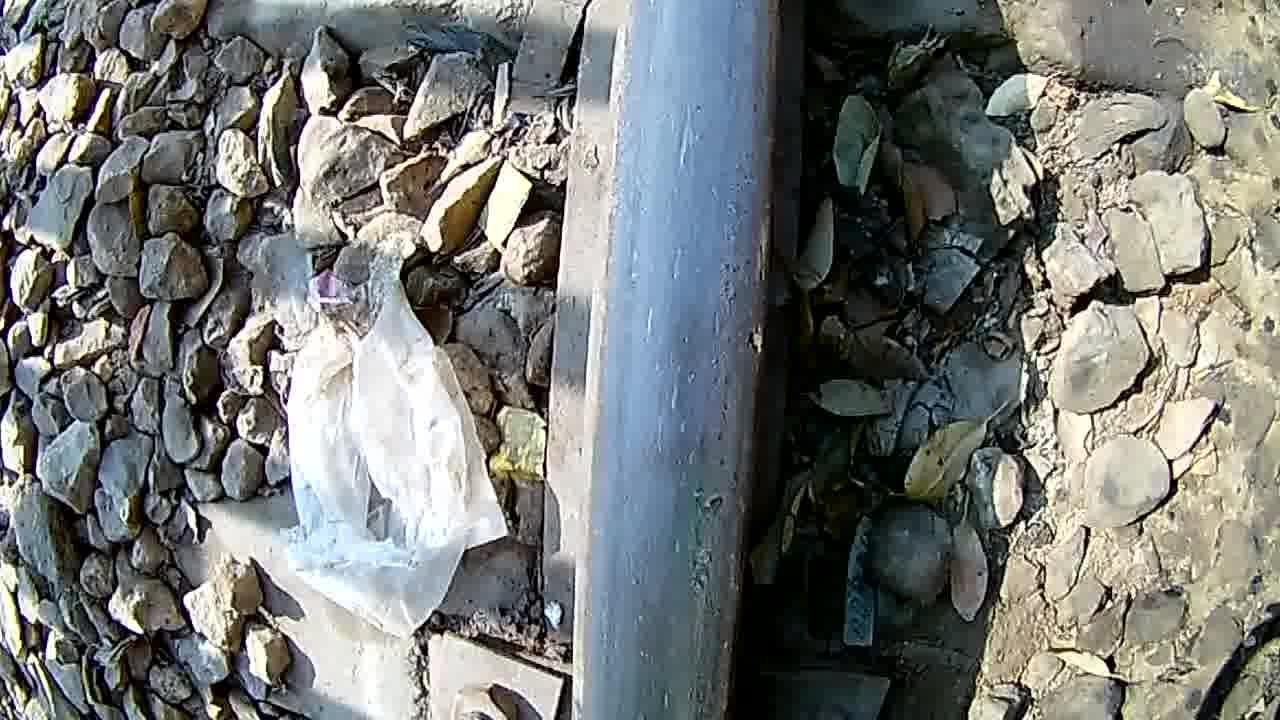crack: (577, 2, 786, 720)
